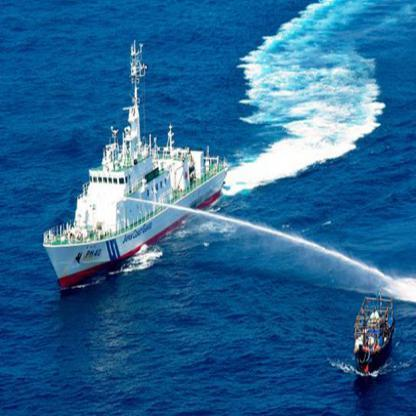Ship: (352, 267, 403, 383)
